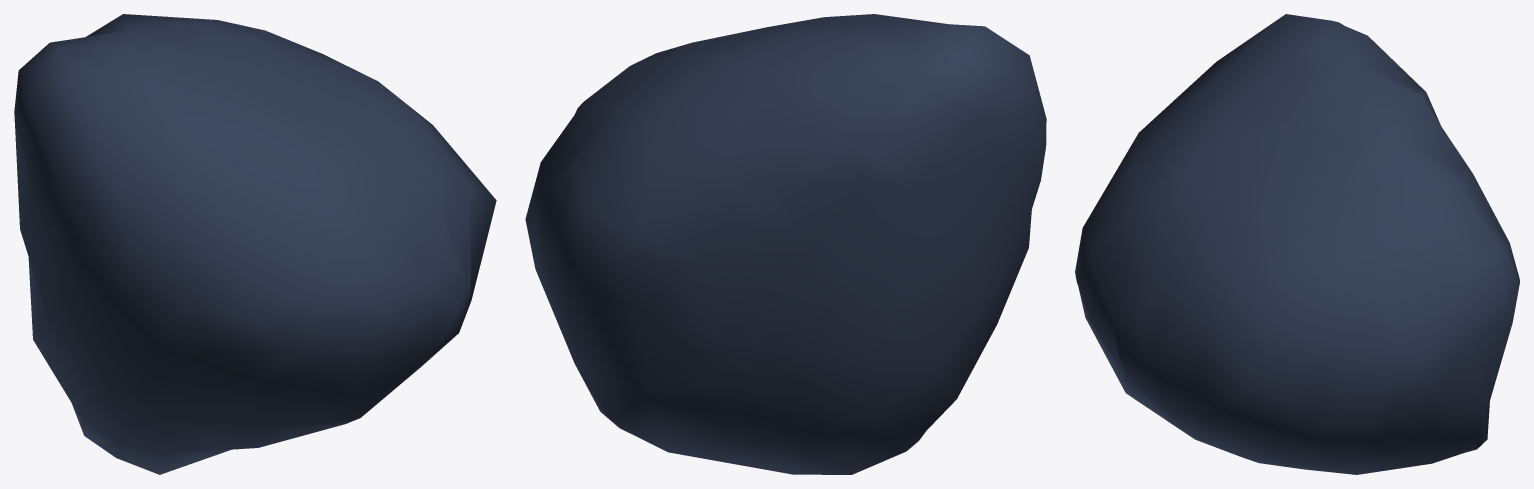
The model's file is Rock_9.fbx.
The picture shows the model from 3 angles, left to right: view 1: azimuth 30°, elevation 25°; view 2: azimuth 150°, elevation 25°; view 3: azimuth 270°, elevation 25°; orthographic projection. The views are drawn at different scales.
Parts seen in each view (by area): view 1: Rock 9; view 2: Rock 9; view 3: Rock 9.
Part boxes in pixels (x1=…): Rock 9: x1=14, y1=14, x2=496, y2=474; Rock 9: x1=525, y1=14, x2=1046, y2=474; Rock 9: x1=1075, y1=14, x2=1519, y2=474.
Size of the model in its own units: 176 by 168 by 175.
